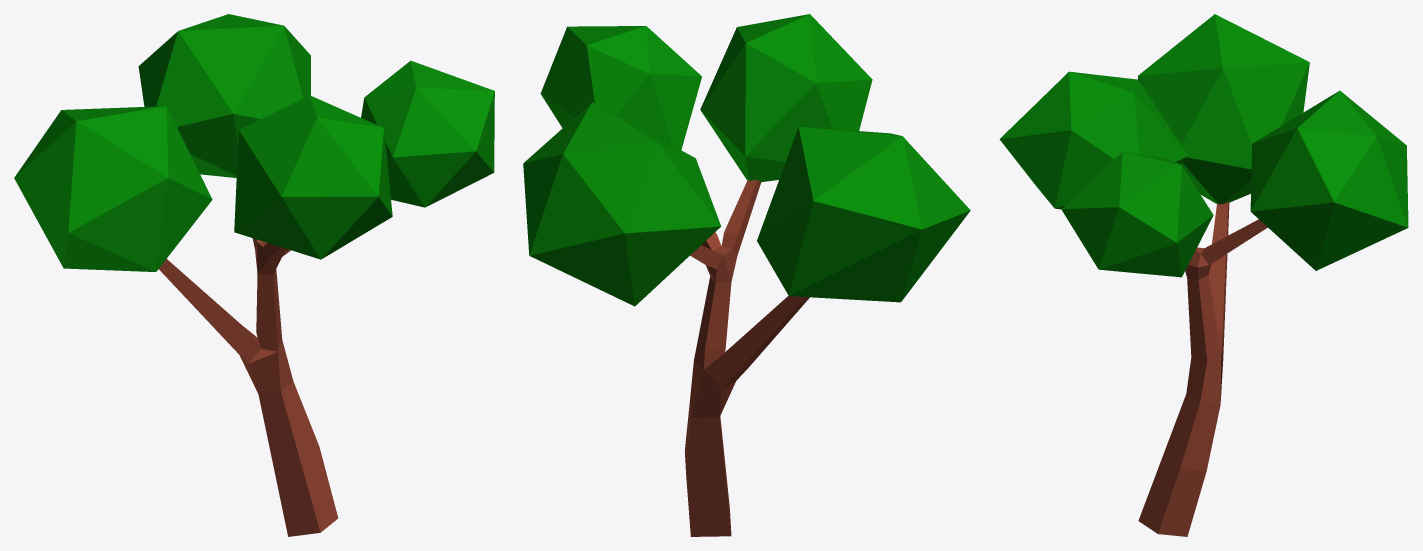
The model's file is tree_1a.fbx.
3 views of the same model, side by side, from view 1: azimuth 30°, elevation 25°; view 2: azimuth 150°, elevation 25°; view 3: azimuth 270°, elevation 25° (orthographic). The views are drawn at different scales.
Visible parts, largest first — view 1: tree_1a; view 2: tree_1a; view 3: tree_1a.
Part boxes in pixels (x1,y1,x2,y2): tree_1a: (14,14,494,536); tree_1a: (523,14,970,536); tree_1a: (999,14,1408,536).
Bounding box in the file's own units: 612 × 662 × 556.
